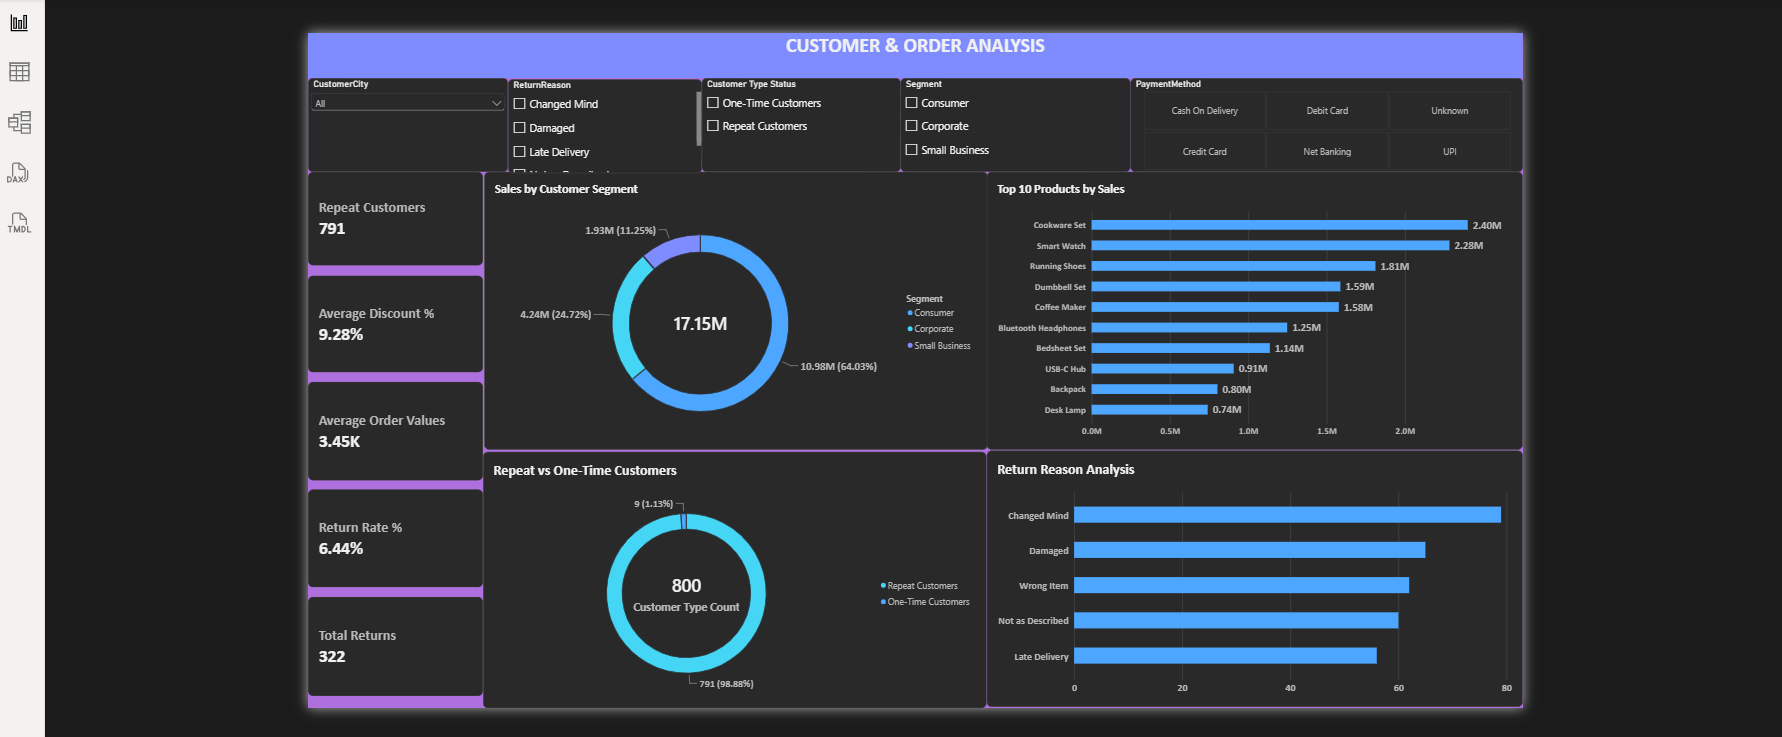

The dashboard page shown, as its layout file describes it:
{"tool":"powerbi","page":{"name":"Customer behaviour and product insights.","canvas":[1943,1080],"ordinal":1},"visuals":[{"type":"cardVisual","fields":{"Data":["Orders_Messy_Raw.Total Discount"]},"box":[0,387.1,280.5,155.6],"z":0},{"type":"cardVisual","fields":{"Data":["Orders_Messy_Raw.Average Order Values"]},"box":[0,557.1,280,158],"z":1},{"type":"textbox","box":[0,0,1943.6,72.4],"z":3},{"type":"cardVisual","fields":{"Data":["Orders_Messy_Raw.Total Returns"]},"box":[0,901.2,280.5,159.3],"z":4},{"type":"cardVisual","fields":{"Data":["Orders_Messy_Raw.Return Rate %"]},"box":[0,729.4,280.5,157.4],"z":5},{"type":"cardVisual","fields":{"Data":["Orders_Messy_Raw.Repeat Customers"]},"box":[0,222.6,280.5,150.2],"z":6},{"type":"donutChart","title":"Sales by Customer Segment","fields":{"Category":["Customers.Segment"],"Y":["Sum(Orders_Messy_Raw.Net_SalesINR)"]},"box":[281.2,222.9,805.3,445.2],"z":7},{"type":"clusteredBarChart","title":"Top 10 Products by Sales","fields":{"Category":["Products.ProductName"],"Y":["Sum(Orders_Messy_Raw.Net_SalesINR)"]},"box":[1085.2,222.9,857.8,445.2],"z":8},{"type":"donutChart","title":"Repeat vs One-Time Customers","fields":{"Category":["Customer Type.Customer Type"],"Y":["Customer Type.Customer Type Count"]},"box":[280.5,669.6,805.3,410.8],"z":9},{"type":"clusteredBarChart","title":"Return Reason Analysis","fields":{"Category":["Returns.ReturnReason"],"Y":["CountNonNull(Returns.CustomerID)"]},"box":[1085.8,667.8,857.8,410.8],"z":10},{"type":"slicer","fields":{"Values":["Customers.CustomerCity"]},"box":[0,72.4,320.3,150.2],"z":11},{"type":"slicer","fields":{"Values":["Returns.ReturnReason"]},"box":[320,74,310,150],"z":12},{"type":"slicer","fields":{"Values":["Orders_Messy_Raw.PaymentMethod"]},"box":[1315.6,72.4,628,150.2],"z":13},{"type":"slicer","fields":{"Values":["Orders_Messy_Raw.Customer Type Status"]},"box":[630,72,318,150],"z":14},{"type":"slicer","fields":{"Values":["Customers.Segment"]},"box":[948,72,368,150],"z":15}]}

Visuals, with their boxes on the page's 1943x1080 design canvas (x1, y1, x2, y2). These are canvas units, not pixel positions in the 1782x737 screenshot, which may show the page scaled, cropped or inside an application window:
cardVisual - Orders_Messy_Raw.Total Discount: x1=0, y1=387, x2=280, y2=543
cardVisual - Orders_Messy_Raw.Average Order Values: x1=0, y1=557, x2=280, y2=715
textbox: x1=0, y1=0, x2=1944, y2=72
cardVisual - Orders_Messy_Raw.Total Returns: x1=0, y1=901, x2=280, y2=1060
cardVisual - Orders_Messy_Raw.Return Rate %: x1=0, y1=729, x2=280, y2=887
cardVisual - Orders_Messy_Raw.Repeat Customers: x1=0, y1=223, x2=280, y2=373
"Sales by Customer Segment" donutChart: x1=281, y1=223, x2=1086, y2=668
"Top 10 Products by Sales" clusteredBarChart: x1=1085, y1=223, x2=1943, y2=668
"Repeat vs One-Time Customers" donutChart: x1=280, y1=670, x2=1086, y2=1080
"Return Reason Analysis" clusteredBarChart: x1=1086, y1=668, x2=1944, y2=1079
slicer - Customers.CustomerCity: x1=0, y1=72, x2=320, y2=223
slicer - Returns.ReturnReason: x1=320, y1=74, x2=630, y2=224
slicer - Orders_Messy_Raw.PaymentMethod: x1=1316, y1=72, x2=1944, y2=223
slicer - Orders_Messy_Raw.Customer Type Status: x1=630, y1=72, x2=948, y2=222
slicer - Customers.Segment: x1=948, y1=72, x2=1316, y2=222
